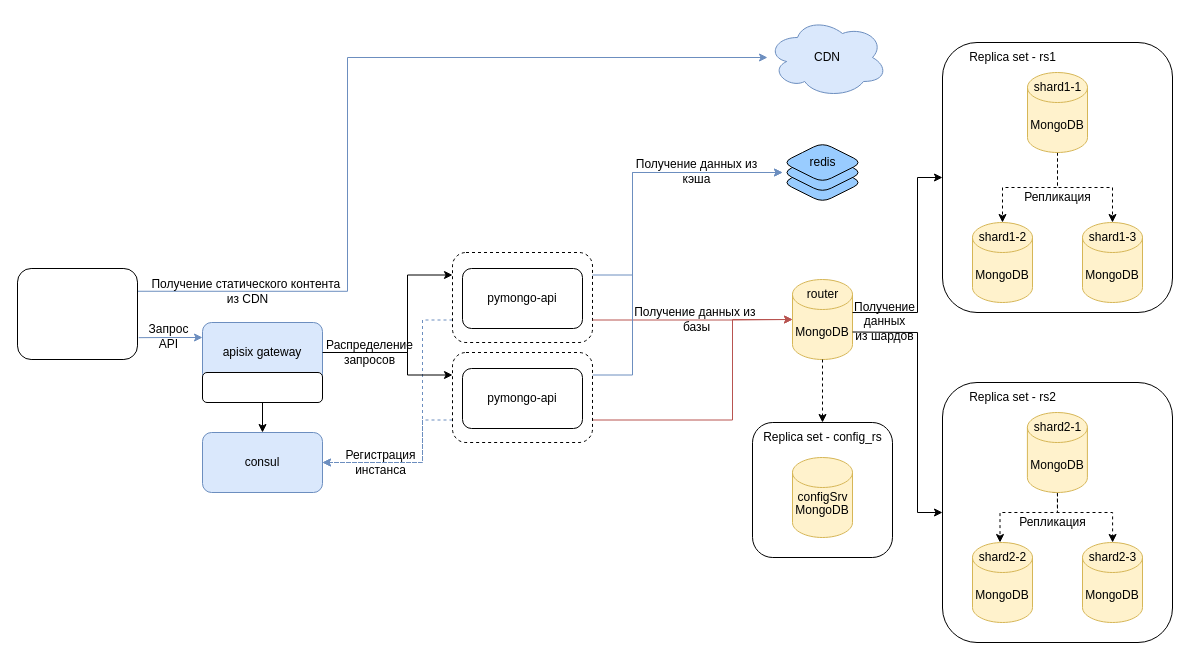
This 1190x668 diagram has some shape labels left out. Each missing label, with the centre of its shape:
consul_kv: the point at 262,387
Сайт: the point at 77,314
